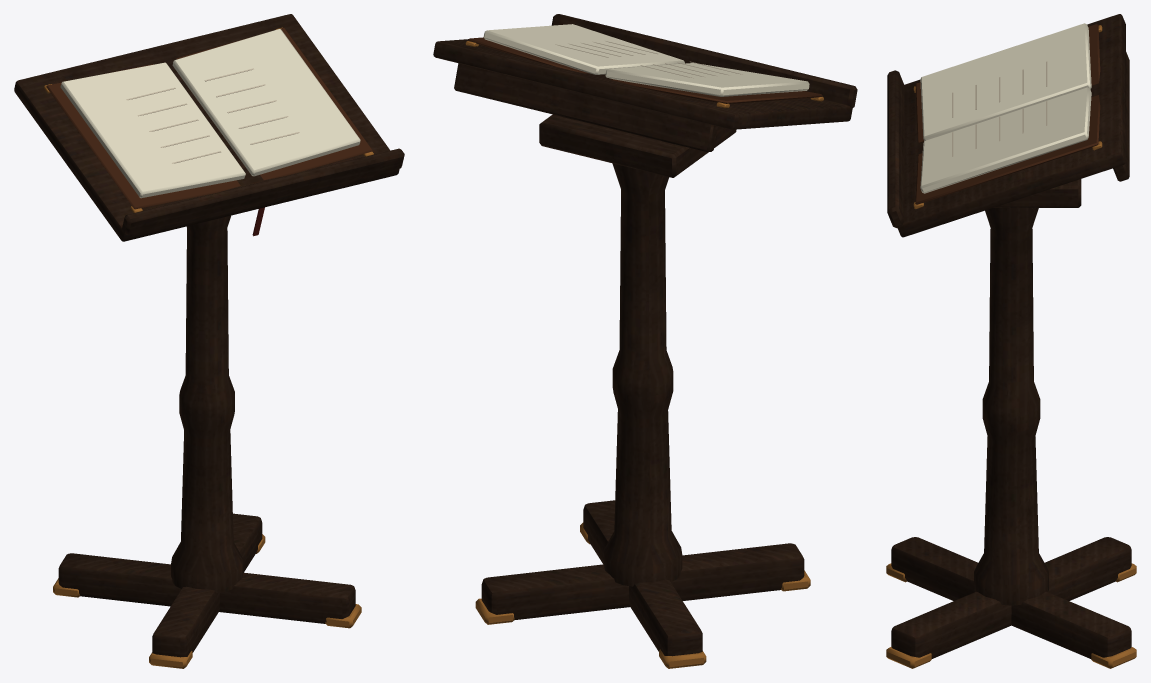
The model's file is archive-folio-stand.lod0.glb.
The picture shows the model from 3 angles, left to right: view 1: azimuth 30°, elevation 25°; view 2: azimuth 150°, elevation 25°; view 3: azimuth 270°, elevation 25°; orthographic projection. The views are drawn at different scales.
Parts seen in each view (by area): view 1: archive_folio_stand_Timber • oiled walnut, archive_folio_stand_Trim • places palette; view 2: archive_folio_stand_Timber • oiled walnut, archive_folio_stand_Trim • places palette; view 3: archive_folio_stand_Timber • oiled walnut, archive_folio_stand_Trim • places palette.
Part boxes in pixels (x1,y1,x2,y2): archive_folio_stand_Timber • oiled walnut: (14, 14, 404, 657); archive_folio_stand_Trim • places palette: (44, 27, 373, 668); archive_folio_stand_Timber • oiled walnut: (433, 14, 857, 656); archive_folio_stand_Trim • places palette: (465, 24, 823, 668); archive_folio_stand_Timber • oiled walnut: (887, 14, 1131, 658); archive_folio_stand_Trim • places palette: (886, 23, 1136, 668).
Bounding box in the file's own units: 0.66 × 1.19 × 0.5006.
2 materials, 2 textured.
